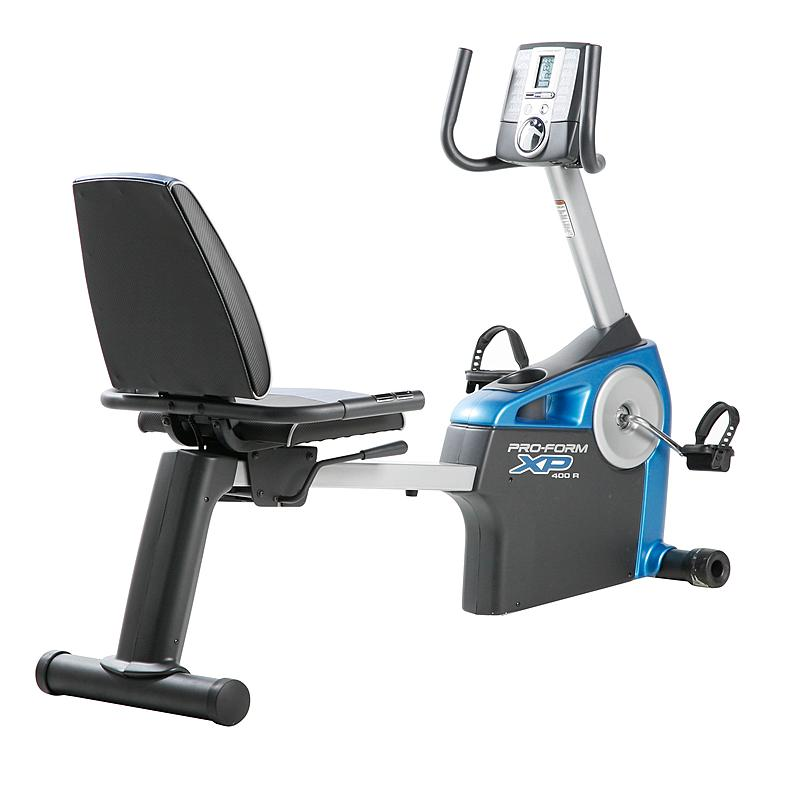gym_bike: (53, 25, 734, 763)
